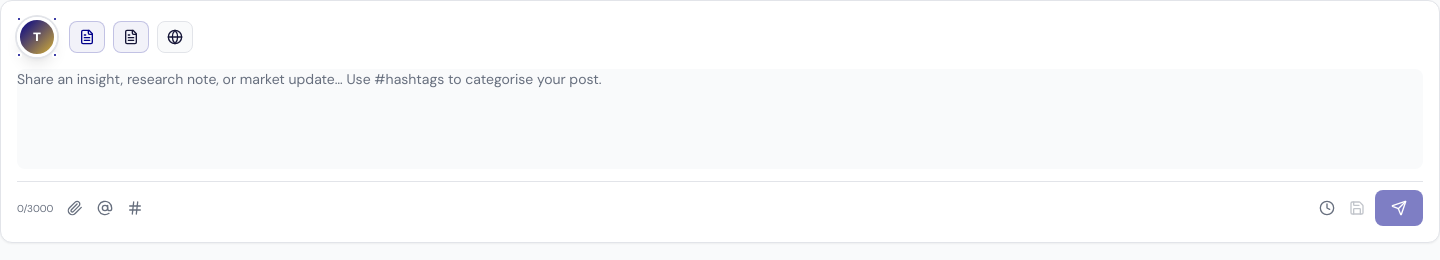
CreatePostComposer Integration › shows character count warning near limit
// Type some content and check character count is displayed
Type "Hello world" into the text box with placeholder "Share an insight" at [720, 119], box [17,69,1423,169]
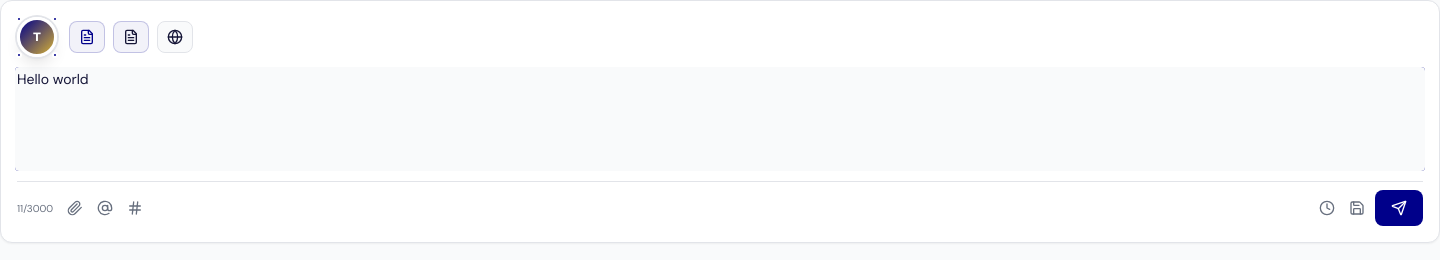
Expected: the text "11/3000" is shown, [17,200,53,216]
